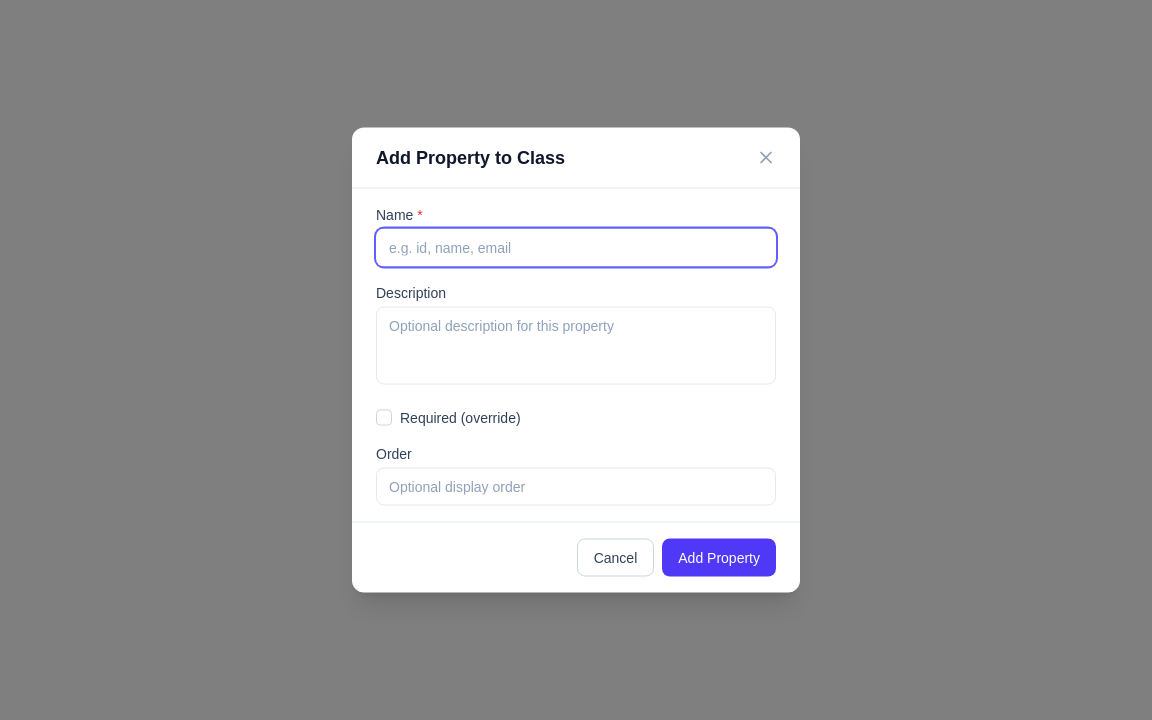
ClassPropertyDialog › shows validation error when saving with empty name
The image size is (1152, 720).
What coordinates should you click on to do the following:
click the button "Add Property"
I would click on:
 (719, 558)
Its box is [662,538,776,576].
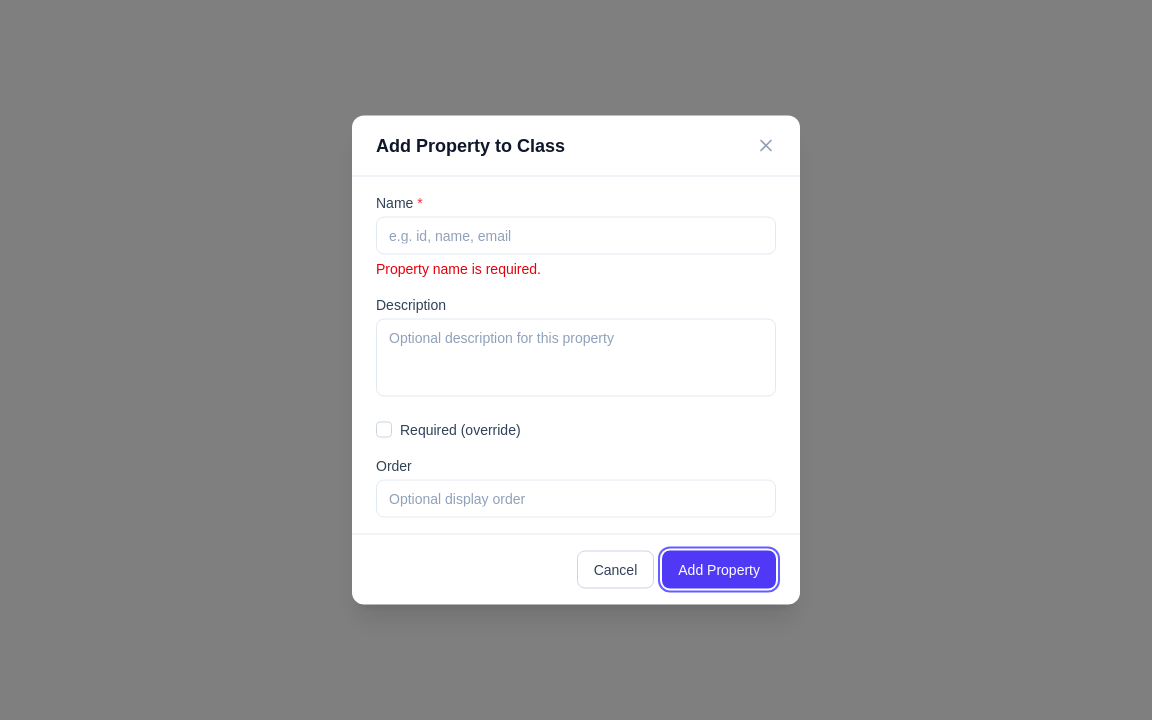
Expected: the text "Property name is required." is shown, [376,260,541,276]
